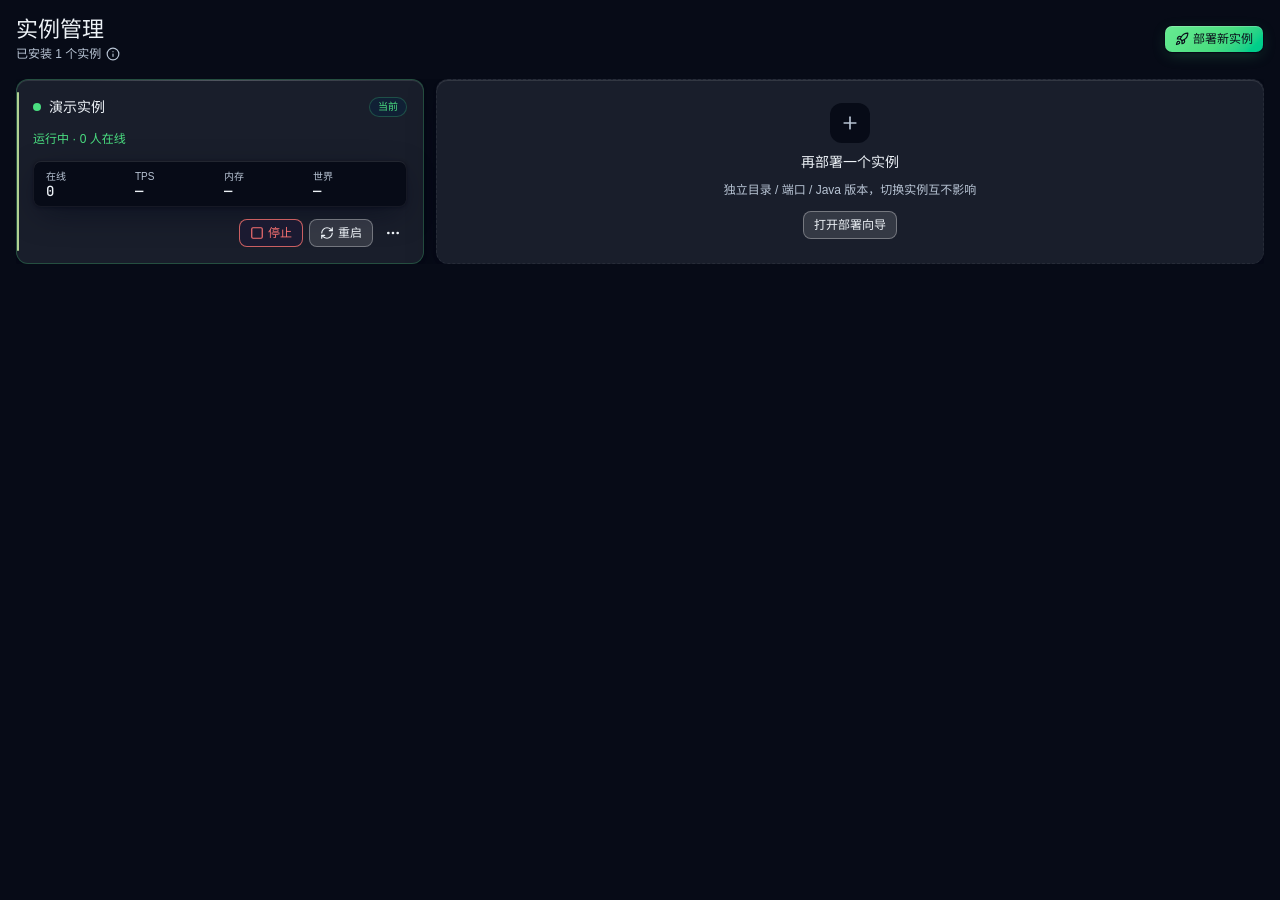
Test: InstancesPage · 卸载确认 › 库中实例名带首尾空白（升级前旧值） › 输入带尾空格的原样名字同样可确认，confirmName 原样上报（trim 由服务端裁决）
Click the button named "演示实例 操作菜单". click: (393, 233)
box: [379,219,407,247]
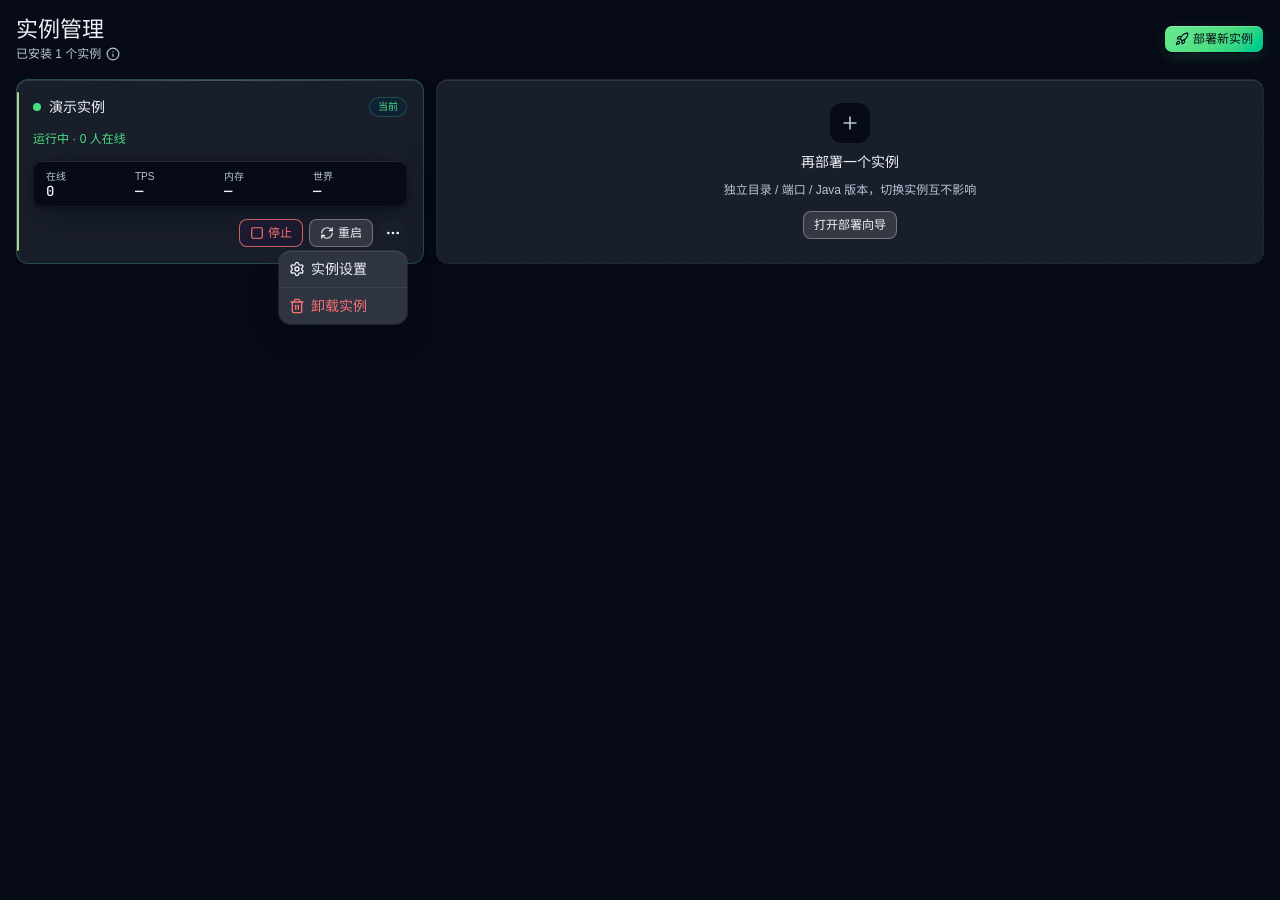
Click the menu item "卸载实例". click: (328, 306)
box: [289,298,367,314]
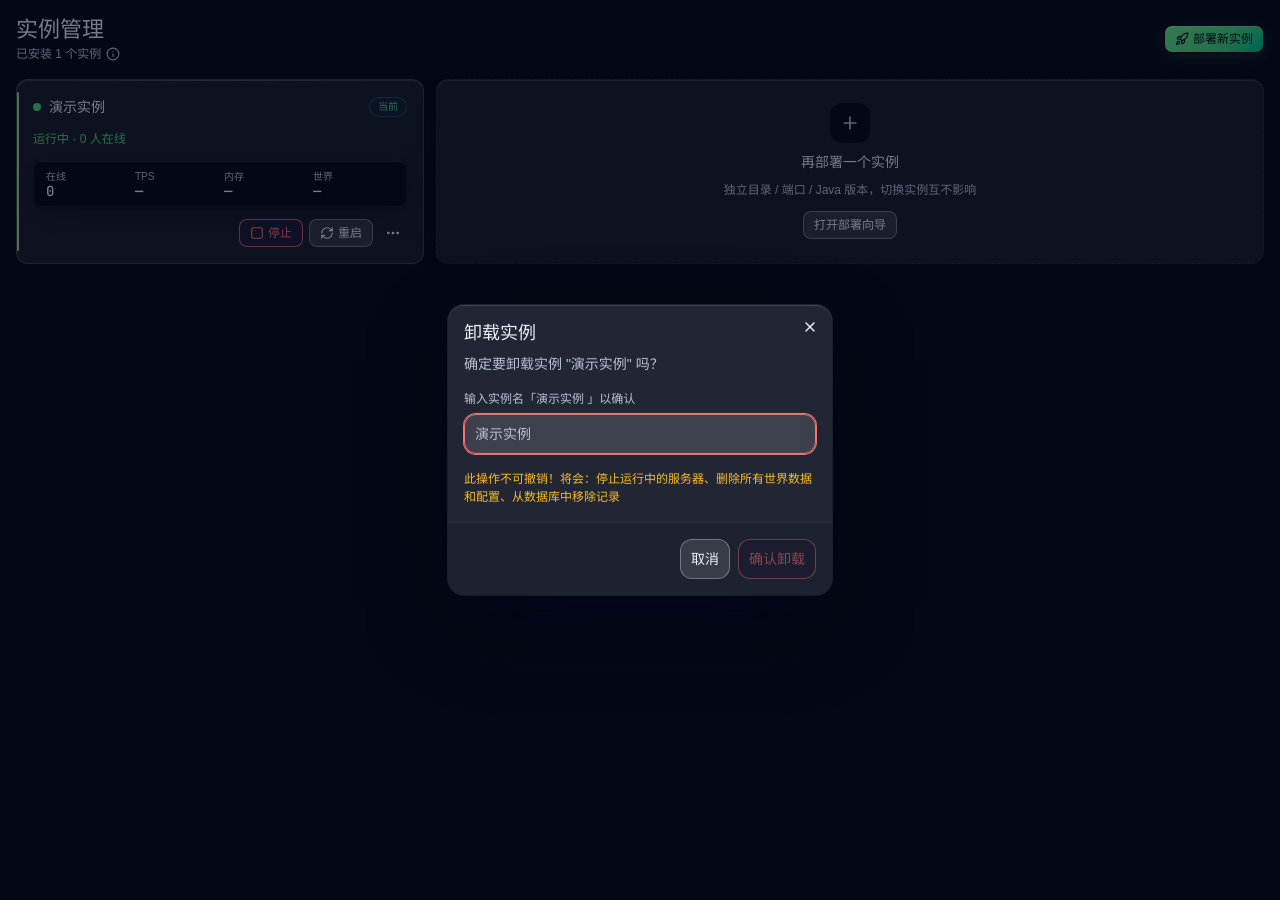
Type "演示实例 " into the field labelled "输入实例名「演示实例 」以确认". click: (640, 434)
box: [464,414,816,454]
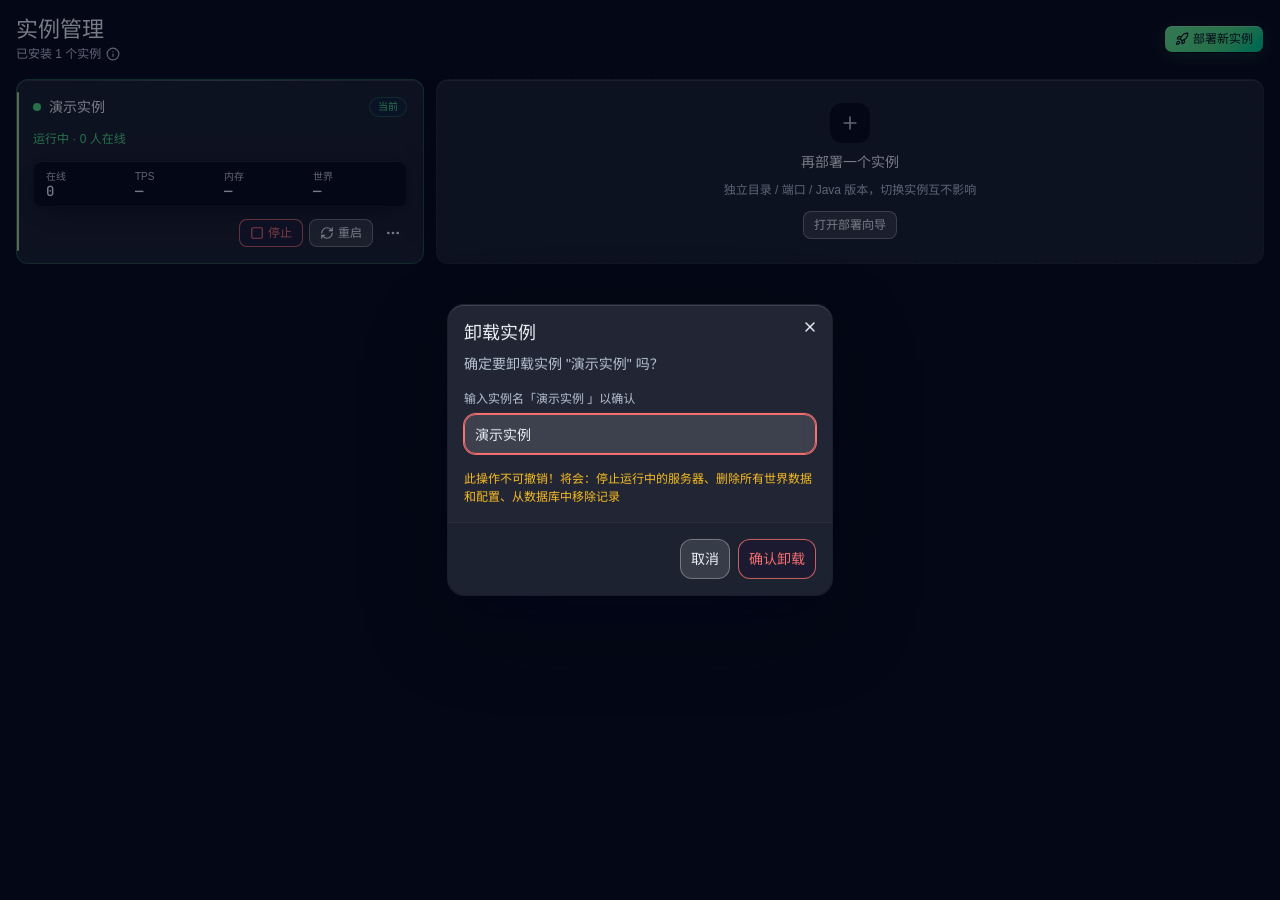
Click the button "确认卸载". click: (777, 559)
box: [738,539,816,579]
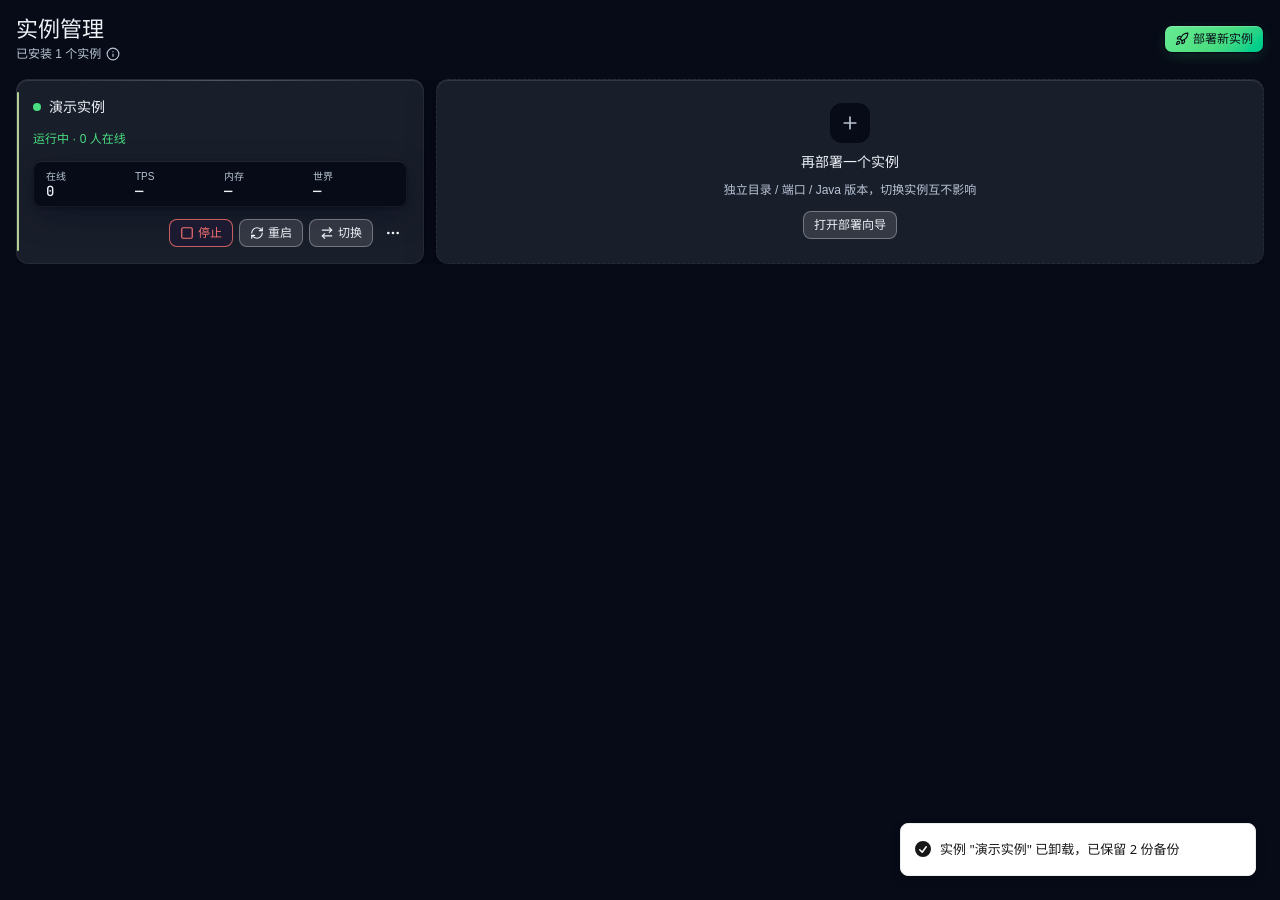
Now the text "实例 \"演示实例\" 已卸载，已保留 2 份备份" is shown, box [940,840,1180,859]
